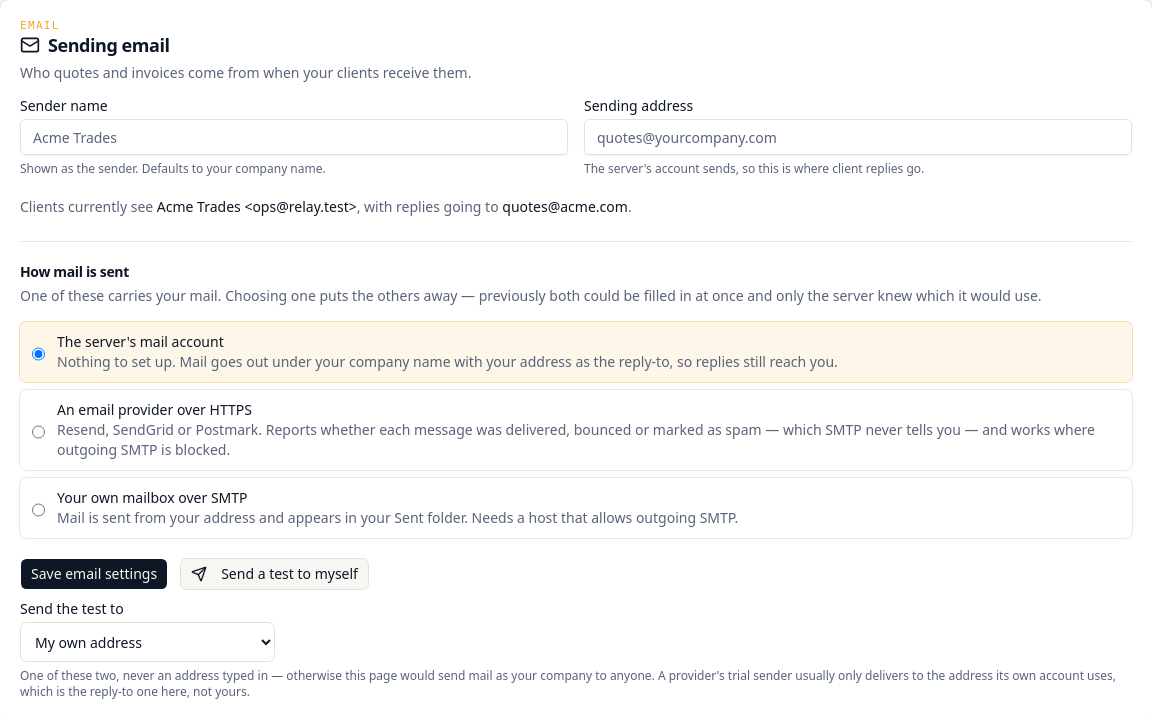
a sending domain a provider can never verify › says so for a consumer mailbox
Click the radio button labelled "email provider" at (38,432), box [32,404,45,460]
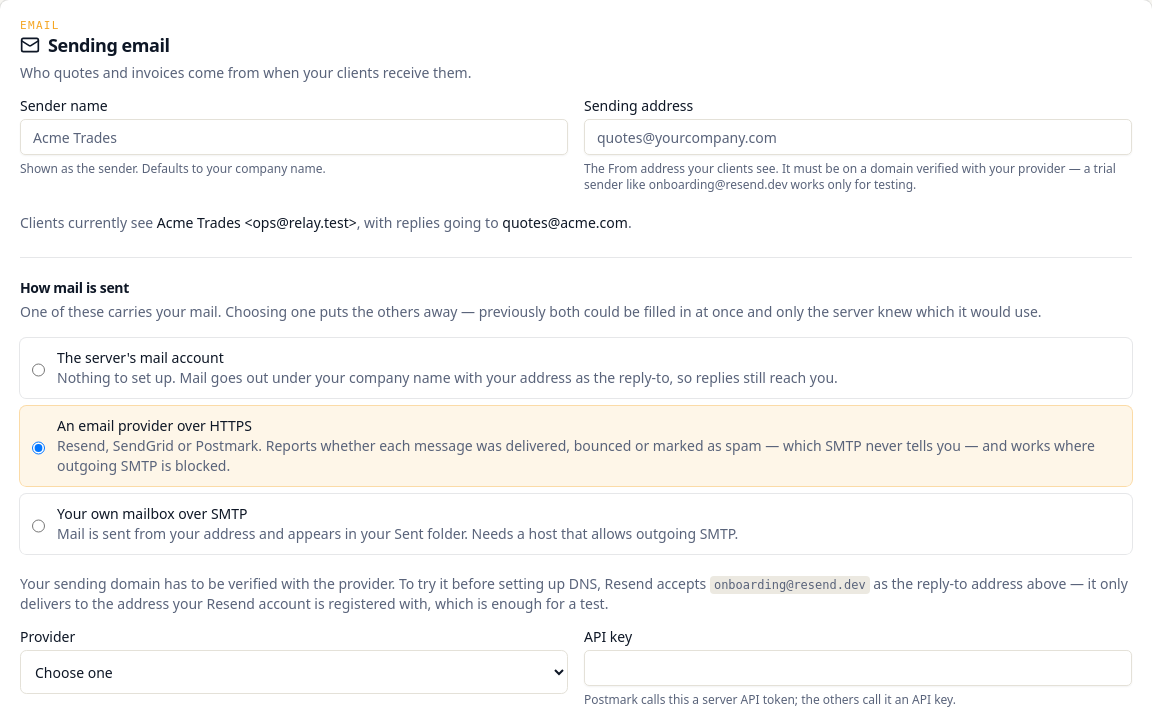
Type "bestconstruction1020@gmail.com" into the field labelled "Sending address" at (858,137), box [584,119,1132,155]
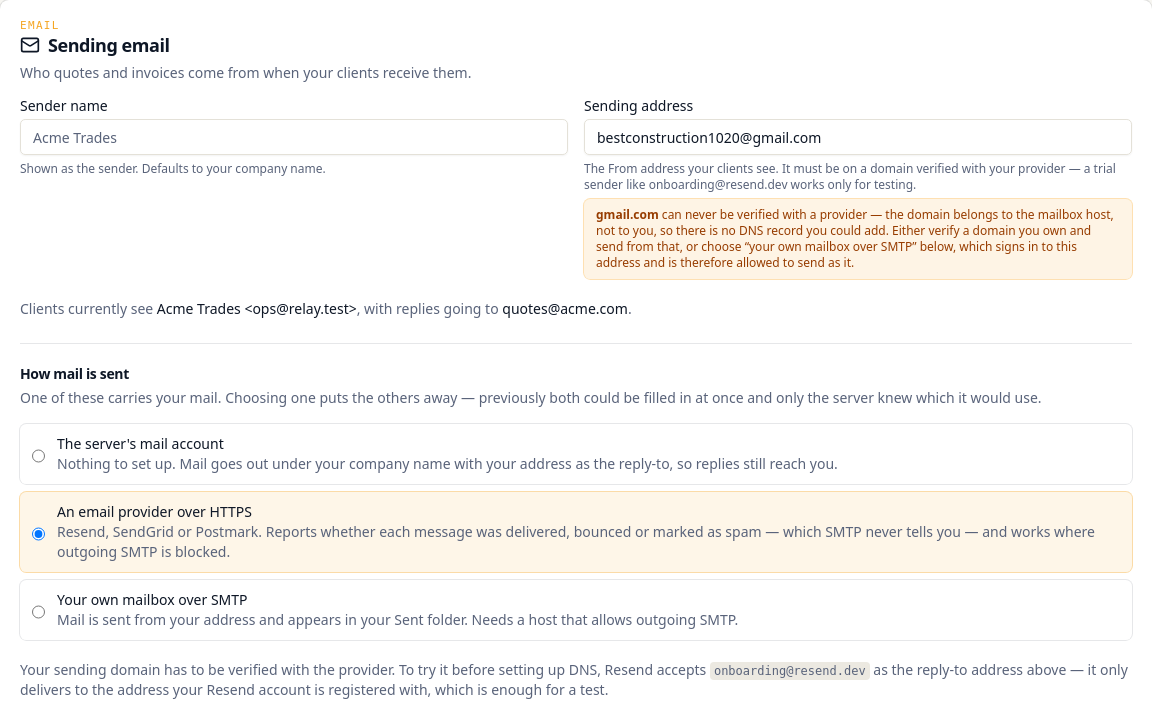
Expected: the text "can never be verified with a" is shown, [596,206,1114,271]
Expected: the text "gmail.com" is shown, [596,206,659,223]
